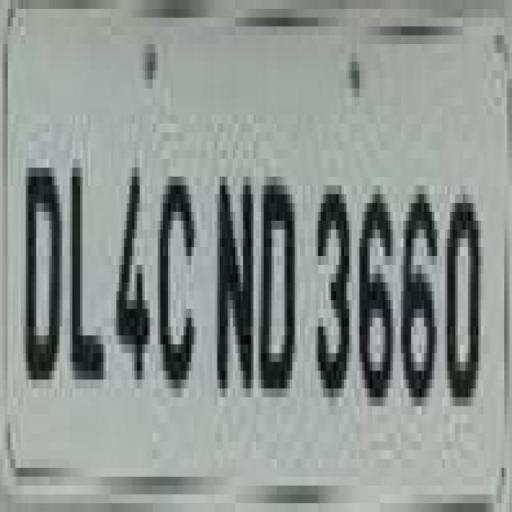number plate: (13, 17, 512, 512)
